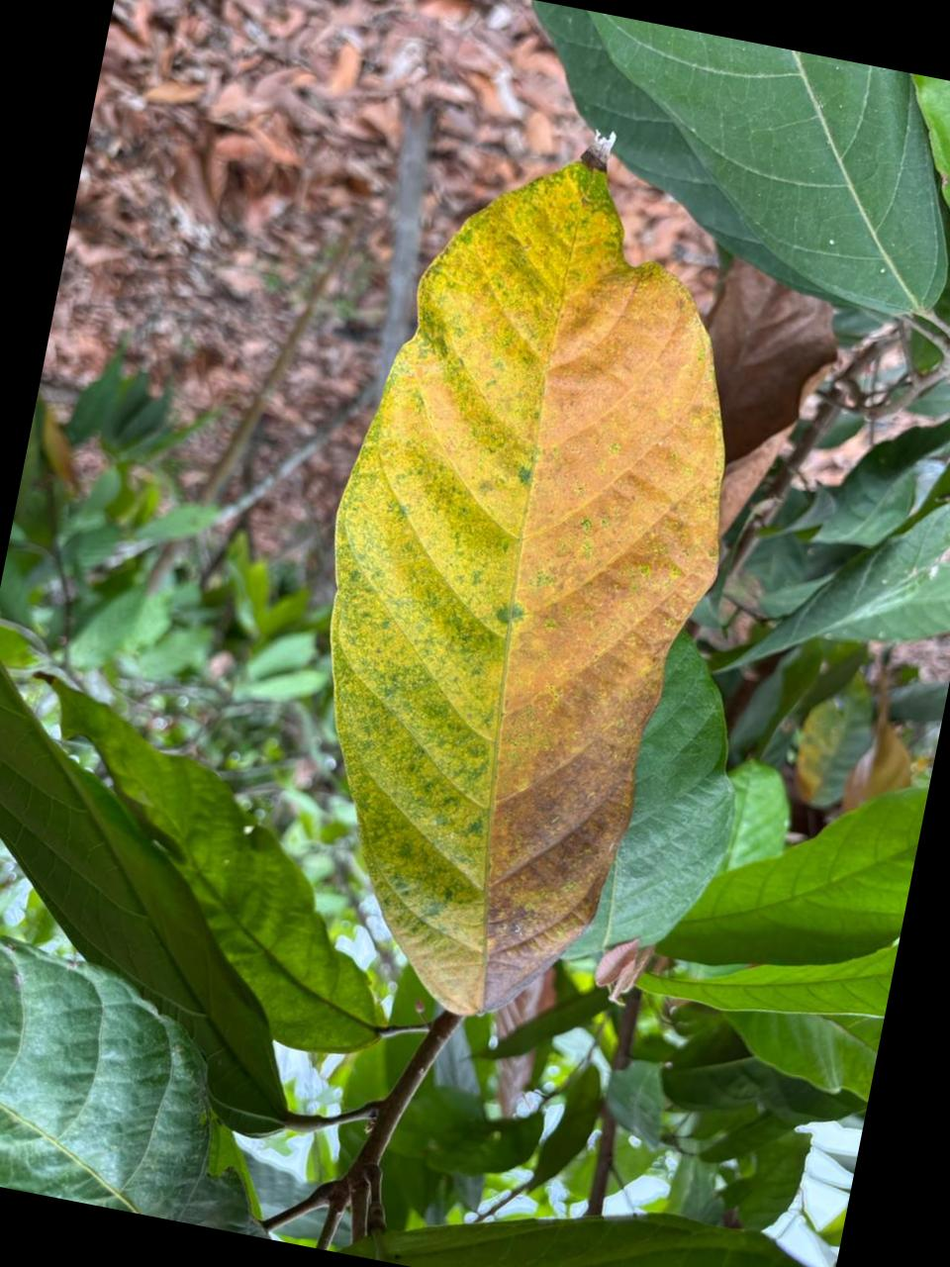Fosforo: (332, 162, 725, 1014)
